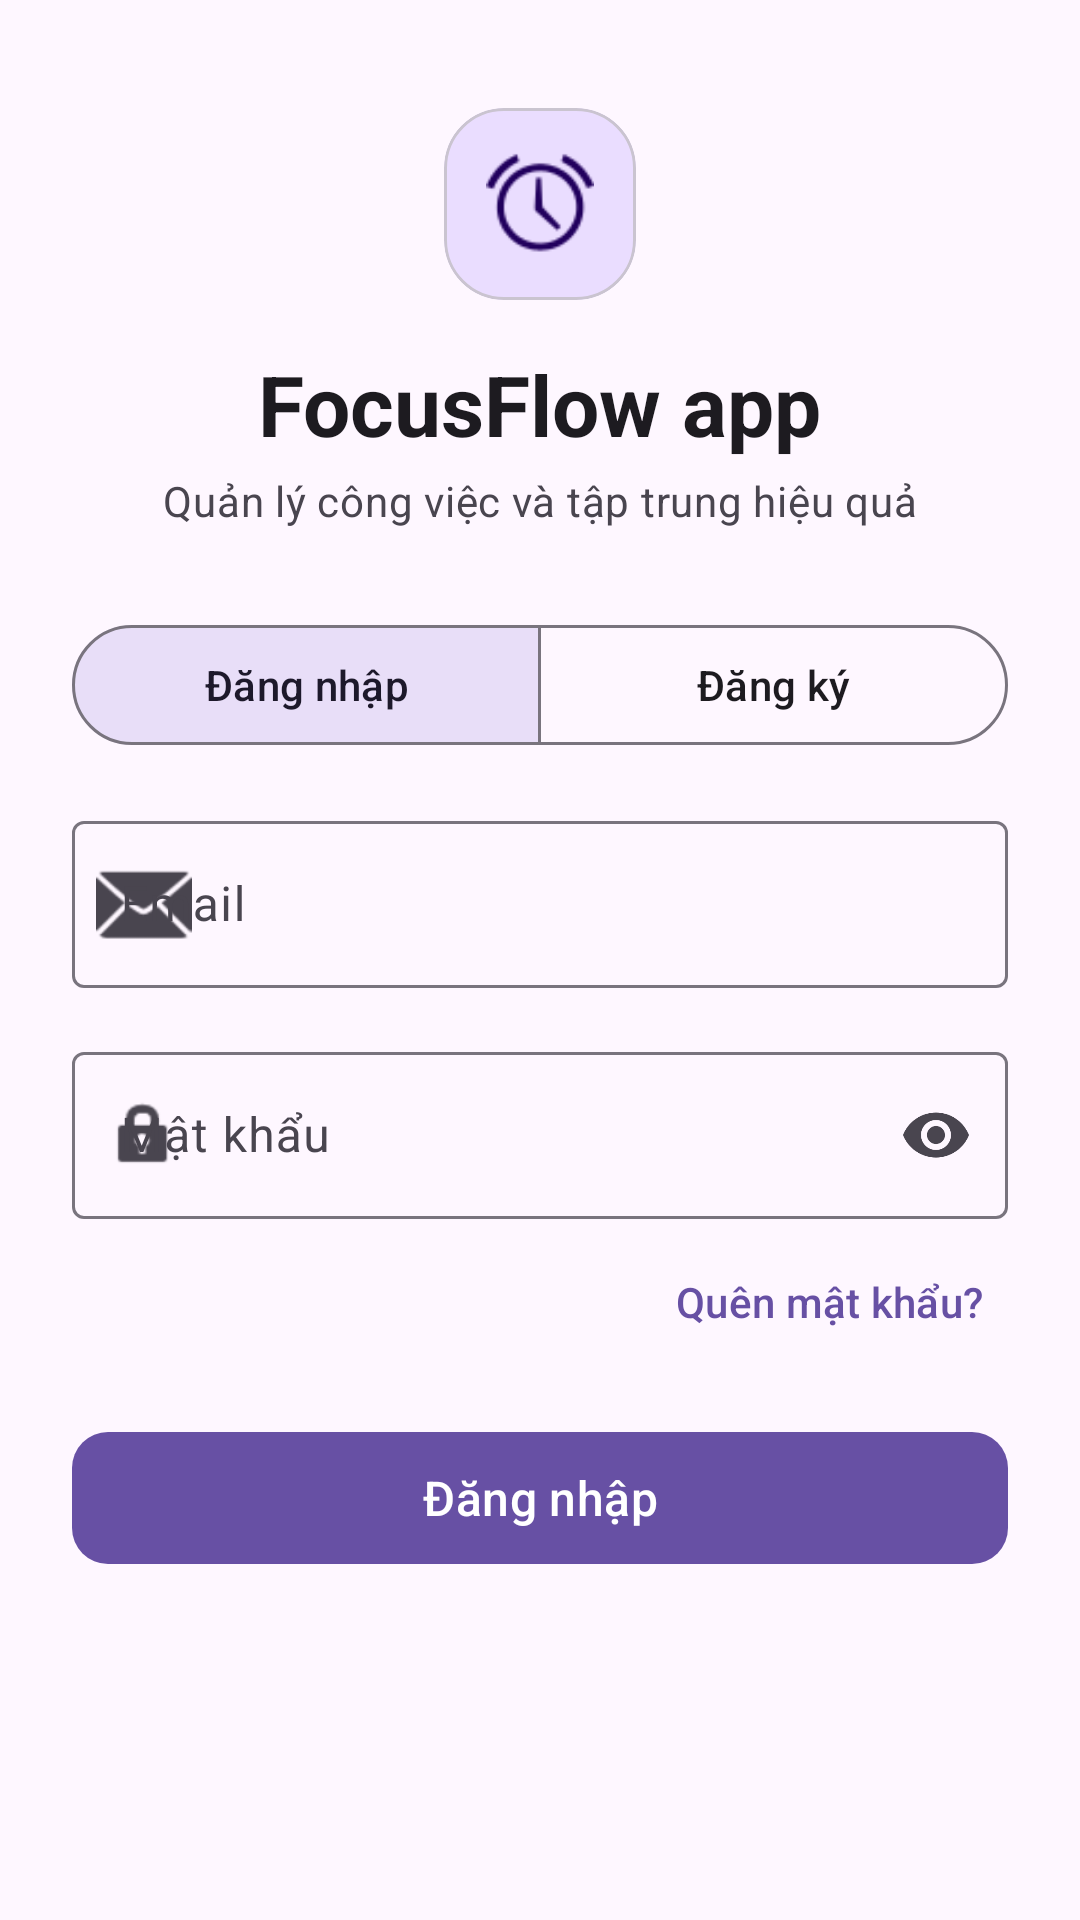

Icon click points for this 1080×1920 phone screenshot, format [x,y]:
lock idle alarm: [540,203]
